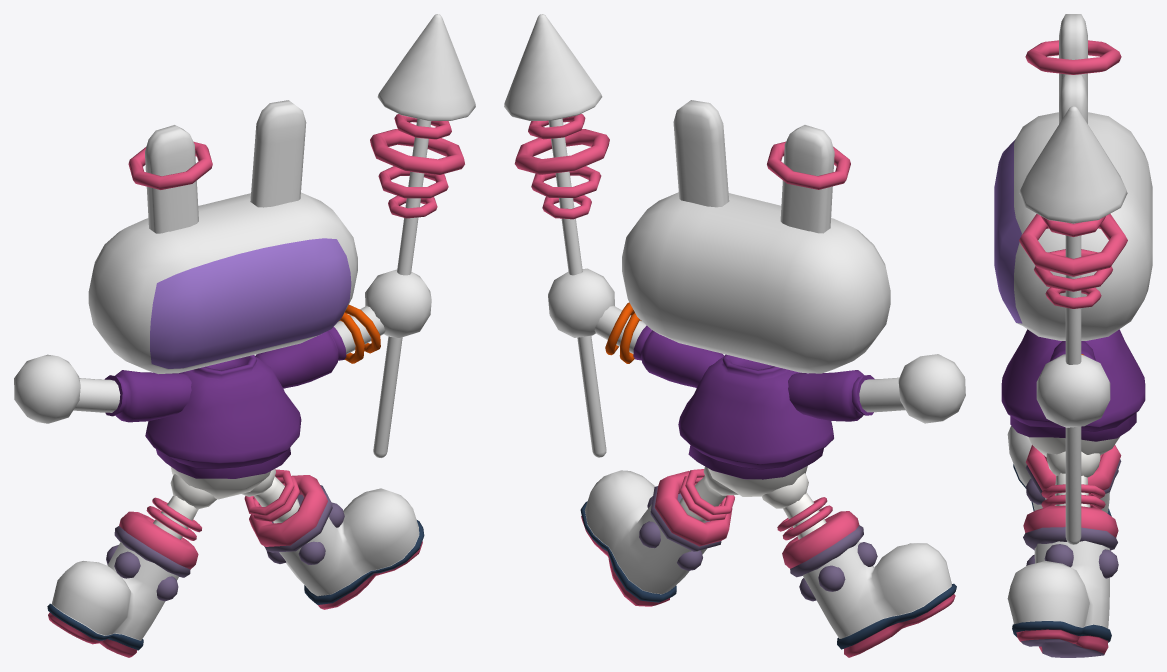
File: Bunny_APose.fbx
The picture shows the model from 3 angles, left to right: view 1: azimuth 30°, elevation 25°; view 2: azimuth 150°, elevation 25°; view 3: azimuth 270°, elevation 25°; orthographic projection. The views are drawn at different scales.
Parts seen in each view (by area): view 1: Head, Body_Sweater, Body_BootL, Body_BootR, Weapon_Shaft, Ear_L, Ear_R, Body_HandR, Body_SleeveR, Body_HandL, Body_SleeveL, Ring_Weapon2 (+10 smaller); view 2: Head, Body_BootR, Body_Sweater, Body_BootL, Weapon_Shaft, Ear_L, Ear_R, Body_HandR, Body_SleeveR, Body_HandL, Body_SleeveL, Ring_Weapon2 (+10 smaller); view 3: Head, Body_BootL, Weapon_Shaft, Body_Sweater, Body_HandL, Body_BootR, Ring_Weapon2, Ring_Ear, Ear_R, Ring_Weapon3, Ear_L, Butt (+6 smaller).
Part boxes in pixels (x1,y1,x2,y2): Head: (88, 192, 357, 373); Body_Sweater: (145, 355, 301, 478); Body_BootL: (249, 475, 424, 609); Body_BootR: (47, 511, 198, 657); Weapon_Shaft: (373, 14, 475, 457); Ear_L: (250, 100, 306, 207); Ear_R: (145, 125, 198, 233); Body_HandR: (14, 354, 80, 423); Body_SleeveR: (104, 370, 191, 422); Body_HandL: (365, 269, 431, 337); Body_SleeveL: (255, 326, 346, 388); Ring_Weapon2: (370, 129, 464, 174); Head: (622, 192, 890, 373); Body_BootR: (782, 511, 956, 657); Body_Sweater: (678, 354, 833, 479); Body_BootL: (580, 470, 732, 606); Weapon_Shaft: (504, 14, 606, 457); Ear_L: (673, 100, 729, 207); Ear_R: (780, 125, 834, 233); Body_HandR: (898, 354, 965, 423); Body_SleeveR: (788, 370, 874, 421); Body_HandL: (548, 268, 614, 337); Body_SleeveL: (633, 325, 724, 387); Ring_Weapon2: (514, 129, 609, 174); Head: (994, 112, 1152, 340); Body_BootL: (1007, 505, 1118, 657); Weapon_Shaft: (1019, 106, 1127, 544); Body_Sweater: (1001, 329, 1145, 441); Body_HandL: (1036, 354, 1110, 427); Body_BootR: (1007, 426, 1121, 516); Ring_Weapon2: (1019, 214, 1127, 276); Ring_Ear: (1025, 40, 1121, 74); Ear_R: (1059, 14, 1087, 93); Ring_Weapon3: (1034, 249, 1112, 291); Ear_L: (1059, 75, 1087, 123); Butt: (1026, 436, 1119, 457).
Bounding box in the file's own units: 91.76 × 110 × 25.56.
